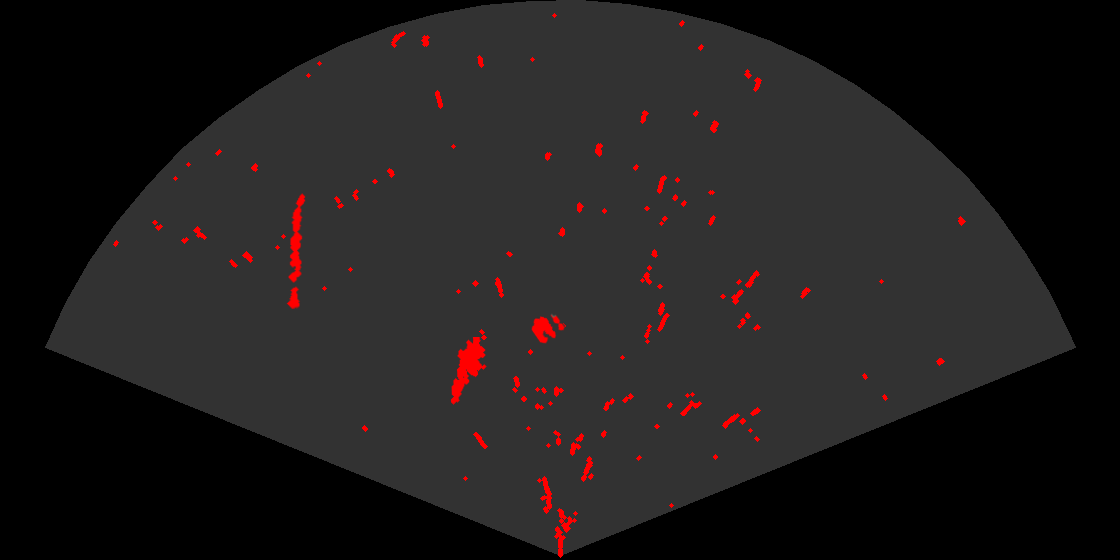ball: (530, 313, 566, 345)
chain: (285, 192, 307, 309)
frogman: (449, 337, 488, 406)
